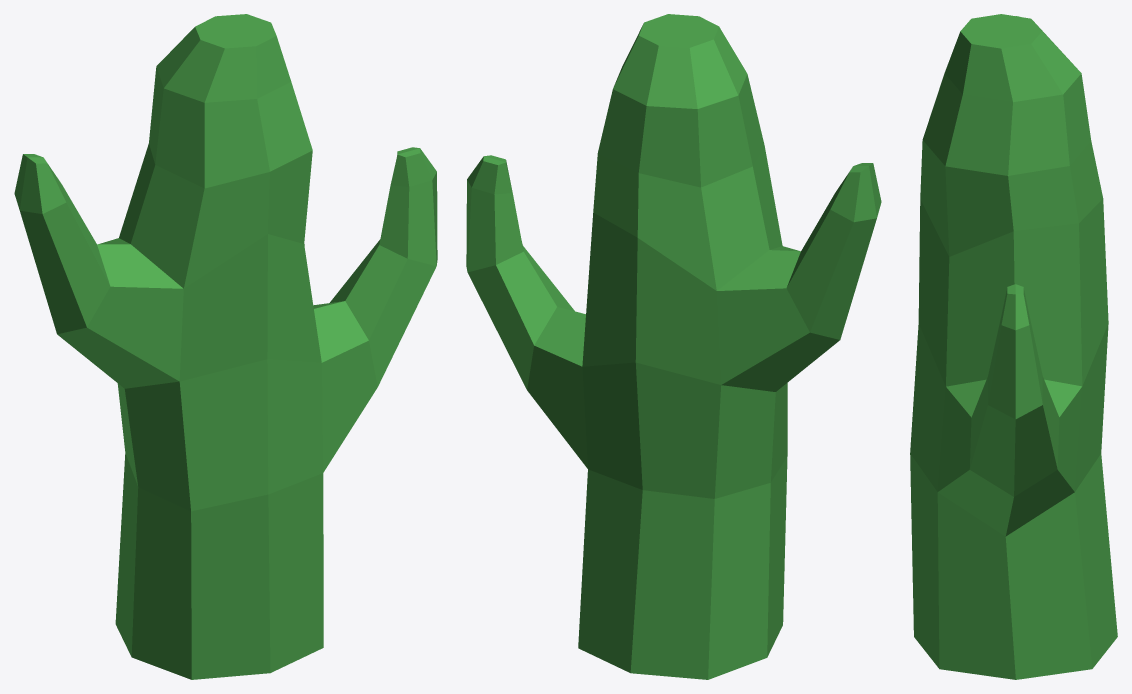
Rendered from Cactus.fbx.
3 renders of one model, left to right at view 1: azimuth 30°, elevation 25°; view 2: azimuth 150°, elevation 25°; view 3: azimuth 270°, elevation 25°, orthographic.
Parts seen in each view (by area): view 1: Cactus; view 2: Cactus; view 3: Cactus.
Part boxes in pixels (x1,y1,x2,y2): Cactus: (14,14,437,679); Cactus: (466,14,881,679); Cactus: (910,14,1117,679).
Size of the model in its own units: 474 by 660 by 204.
